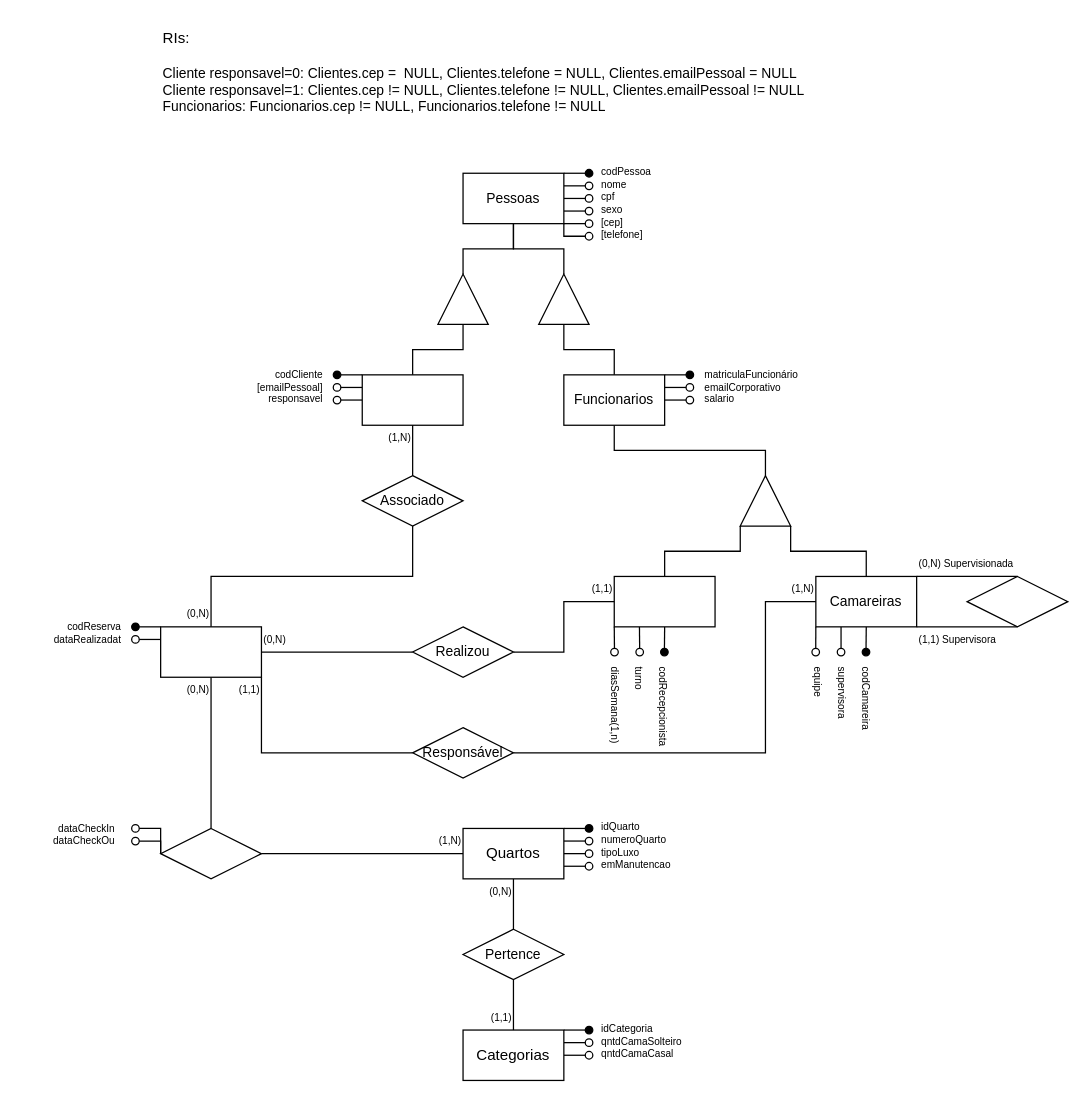
This 1090x1103 diagram has some shape labels left out. Here are the shapes that lost their labels. From the top down, the centre of each, then its label:
At [412,399]: "Clientes".
At [664,601]: "Recepcionistas".
At [1017,601]: "Supervisão".
At [210,651]: "Reserva".
At [210,853]: "Alocado".
